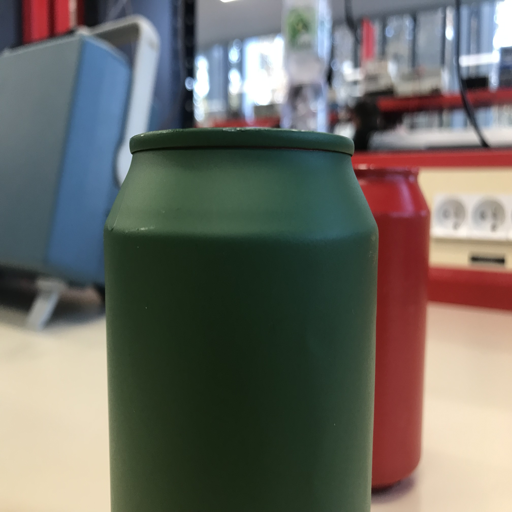Green_Can: (98, 124, 380, 511)
Red_Can: (352, 160, 434, 498)
